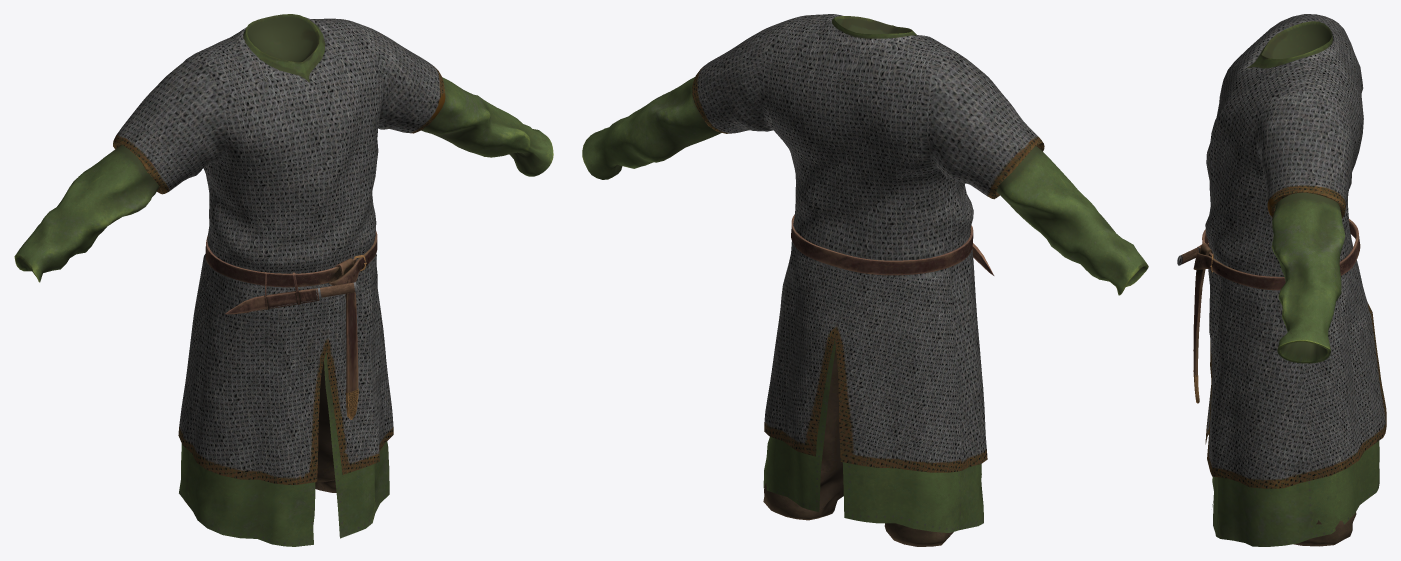
Rendered from cts_rohan_armor1111.fbx.
3 renders of one model, left to right at view 1: azimuth 30°, elevation 25°; view 2: azimuth 150°, elevation 25°; view 3: azimuth 270°, elevation 25°, orthographic. The views are drawn at different scales.
Visible parts, largest first — view 1: cts_rohan_armor1111; view 2: cts_rohan_armor1111; view 3: cts_rohan_armor1111.
Boxes of the visible parts, left/top/right/bottom form: cts_rohan_armor1111: left=14, top=14, right=553, bottom=546; cts_rohan_armor1111: left=582, top=14, right=1148, bottom=546; cts_rohan_armor1111: left=1177, top=14, right=1386, bottom=546.
Size of the model in its own units: 1.36 by 0.4672 by 1.19.
Materials: 1 (1 with a texture image).
